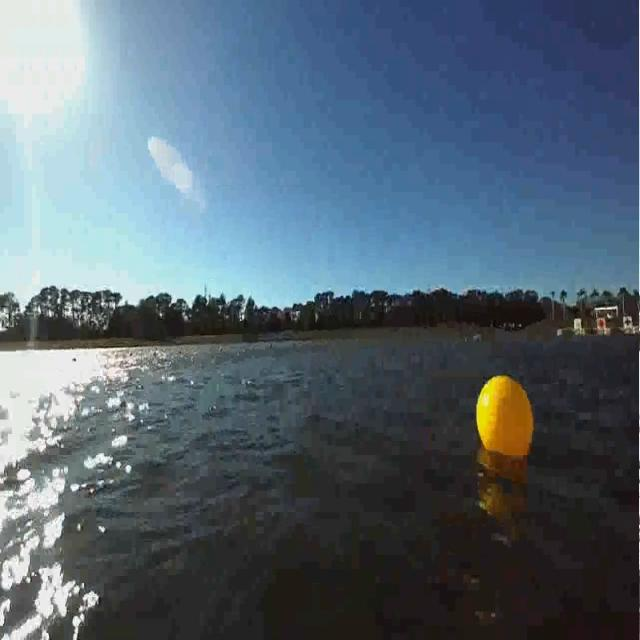yellow-buoy: (475, 372, 536, 462)
